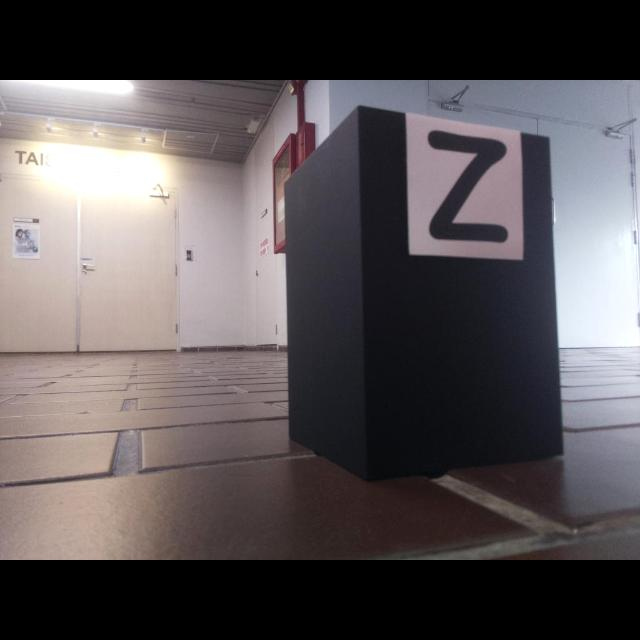Z: (428, 131, 507, 242)
